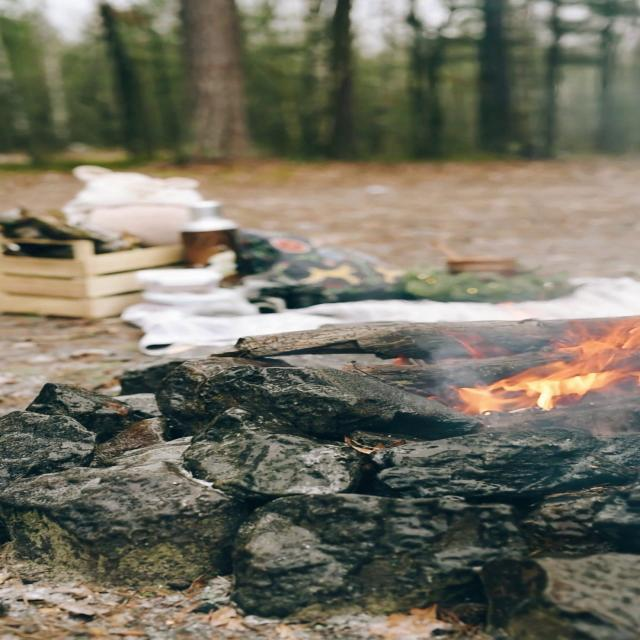Fire: (462, 308, 640, 428)
